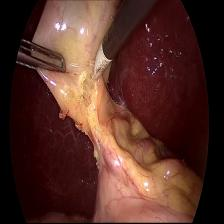Grasper: (13, 38, 68, 74)
Hook: (89, 36, 113, 95)
